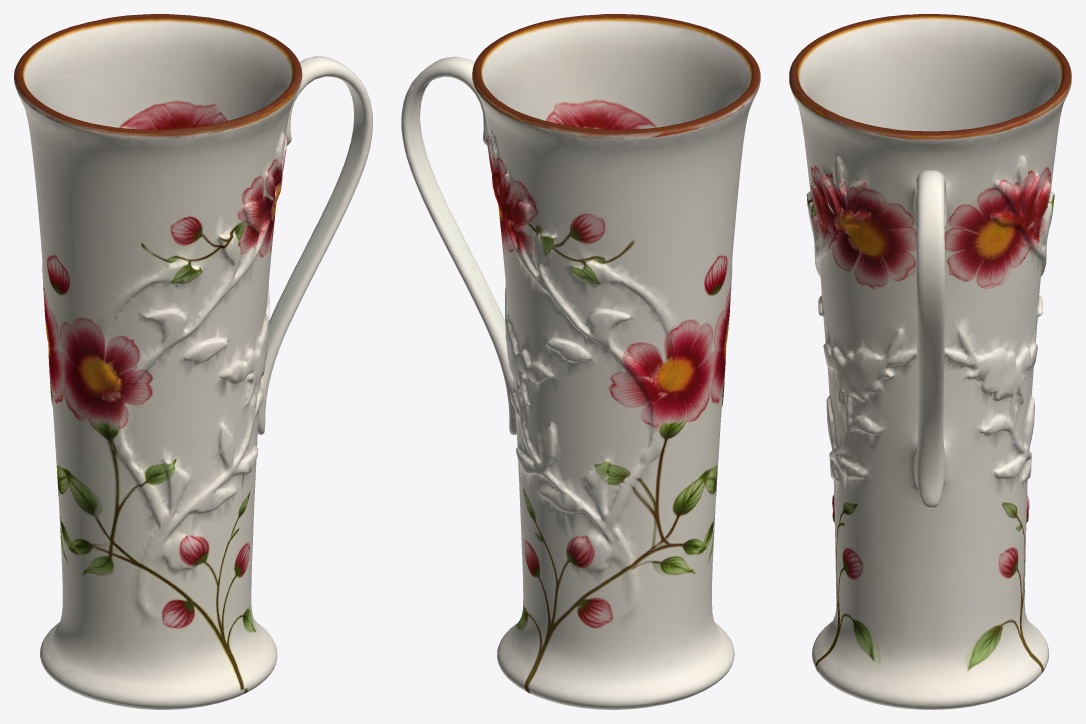
The model's file is cousin_0.glb.
The picture shows the model from 3 angles, left to right: view 1: azimuth 30°, elevation 25°; view 2: azimuth 150°, elevation 25°; view 3: azimuth 270°, elevation 25°; orthographic projection.
Bounding box in the file's own units: 1.13 × 1.91 × 0.8284.
Materials: 1 (1 with a texture image).
